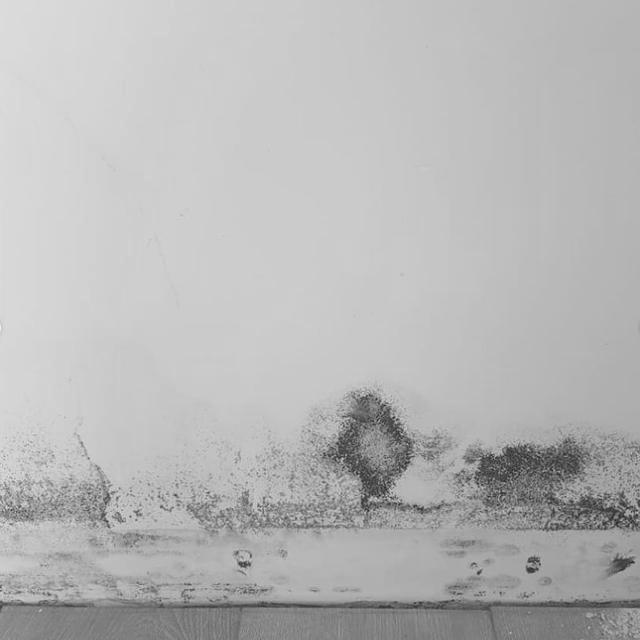stain marks: (294, 372, 640, 542), (0, 429, 295, 522), (0, 526, 299, 602), (430, 530, 640, 600), (305, 583, 369, 604)
